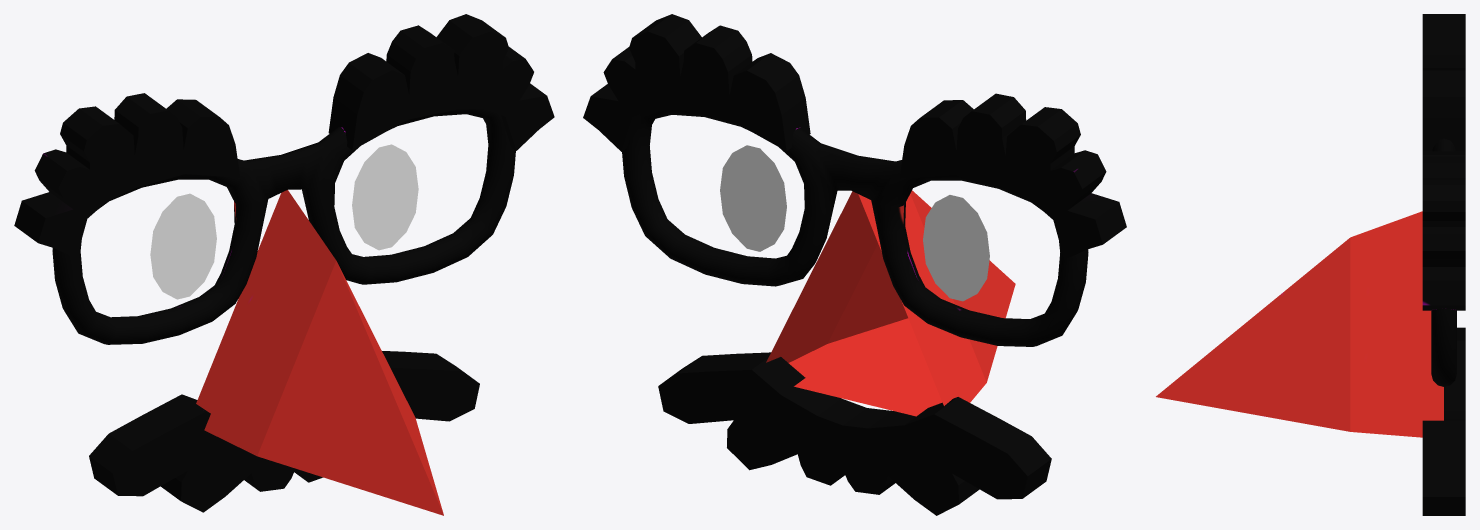
File: mask.fbx
The picture shows the model from 3 angles, left to right: view 1: azimuth 30°, elevation 25°; view 2: azimuth 150°, elevation 25°; view 3: azimuth 270°, elevation 25°; orthographic projection. The views are drawn at different scales.
Parts seen in each view (by area): view 1: mask; view 2: mask; view 3: mask.
Boxes of the visible parts, bbox=[...] form: mask: bbox=[14, 14, 554, 515]; mask: bbox=[583, 14, 1126, 515]; mask: bbox=[1156, 14, 1465, 515].
Bounding box in the file's own units: 466 × 355 × 268.
1 material, 1 textured.
